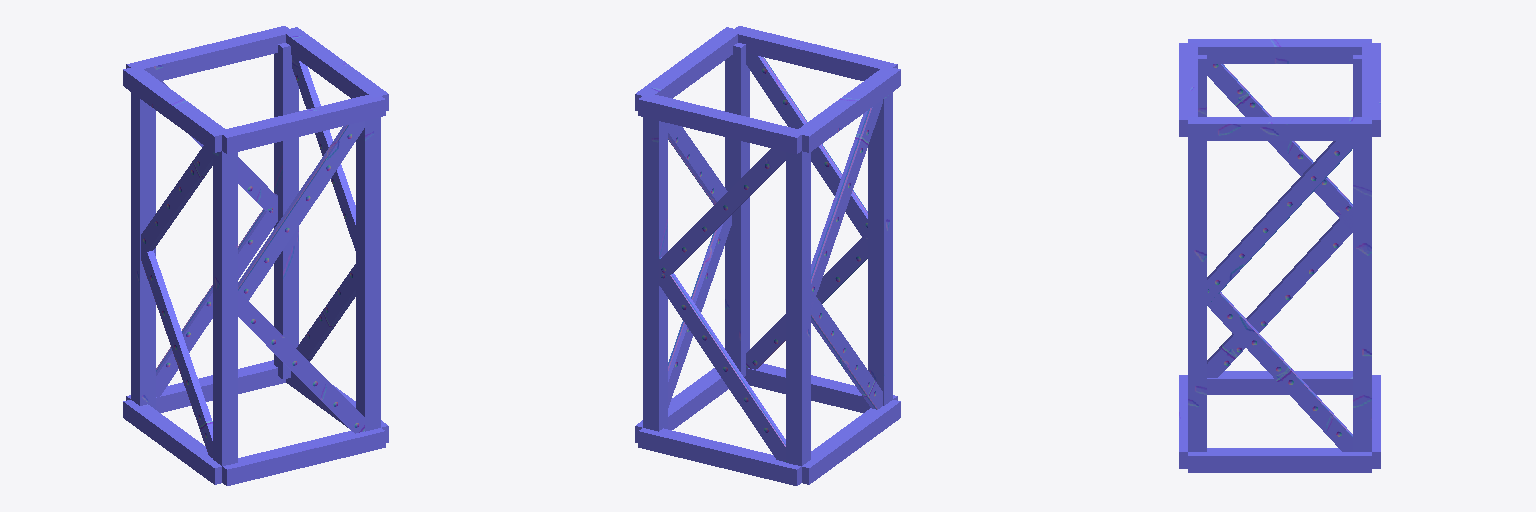
The picture shows the model from 3 angles: view 1: azimuth 30°, elevation 25°; view 2: azimuth 150°, elevation 25°; view 3: azimuth 270°, elevation 25°; orthographic projection.
Parts seen in each view (by area): view 1: Cube1; view 2: Cube1; view 3: Cube1.
Part boxes in pixels (bbox=[...]): Cube1: bbox=[123, 26, 388, 485]; Cube1: bbox=[635, 26, 900, 485]; Cube1: bbox=[1179, 39, 1380, 472].
Size of the model in its own units: 1.1 by 2.1 by 1.1.
1 materials, 1 textured.